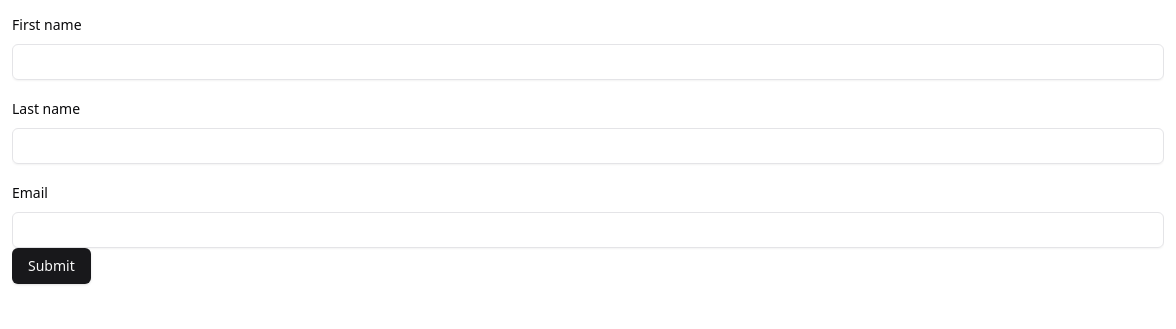
Test case: PersonalInformation › should validate email input with existing email
Type "email@gmail.com" into the field labelled "Email" at {"x": 588, "y": 230}, box [12, 212, 1164, 248]
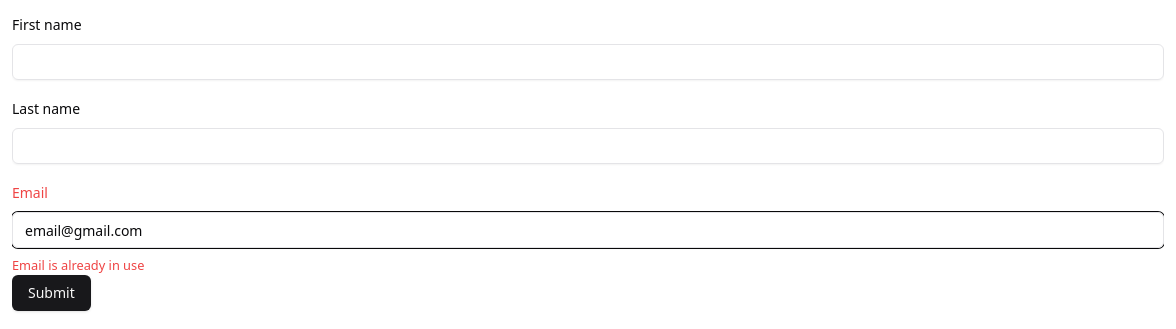
Expected: the text "Email is already in use" is shown, [12, 256, 144, 274]
